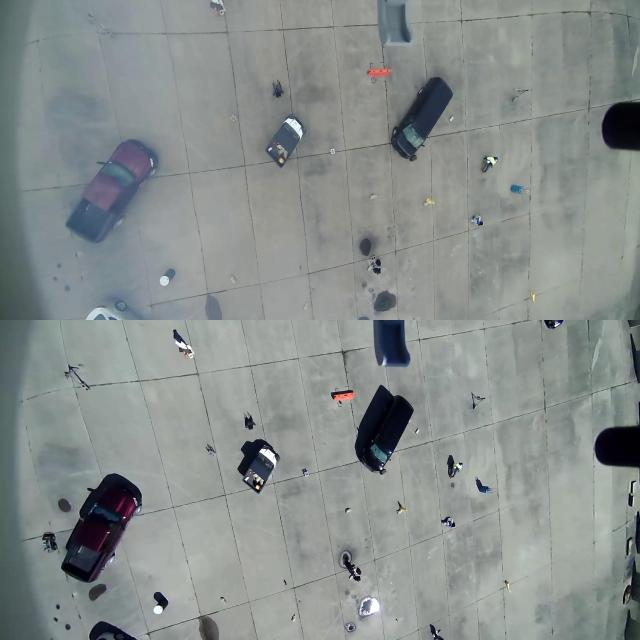car: (57, 127, 159, 242), (57, 470, 146, 580), (388, 76, 458, 166), (368, 392, 413, 479)
truck: (233, 438, 290, 498), (264, 108, 312, 172)
